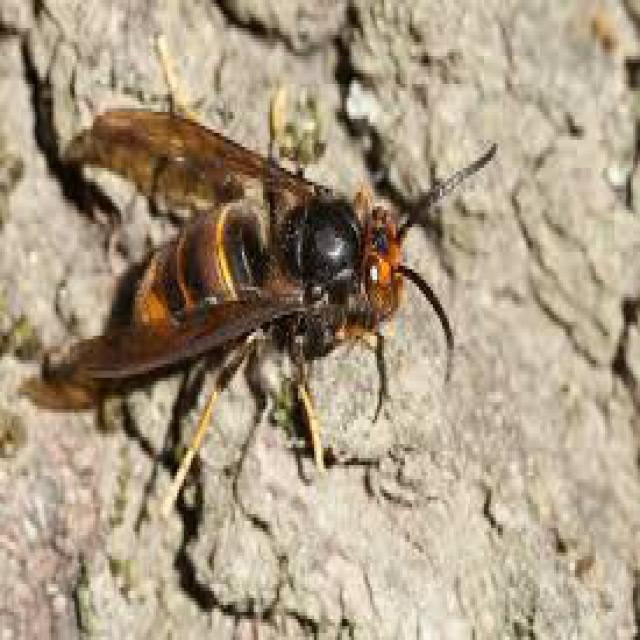Vespa Velutina: (12, 23, 502, 536)
